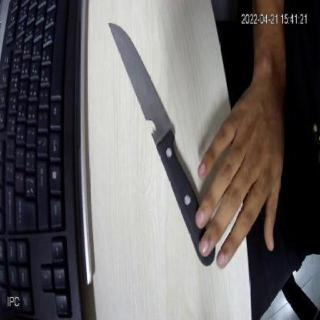knife: (106, 17, 217, 267)
